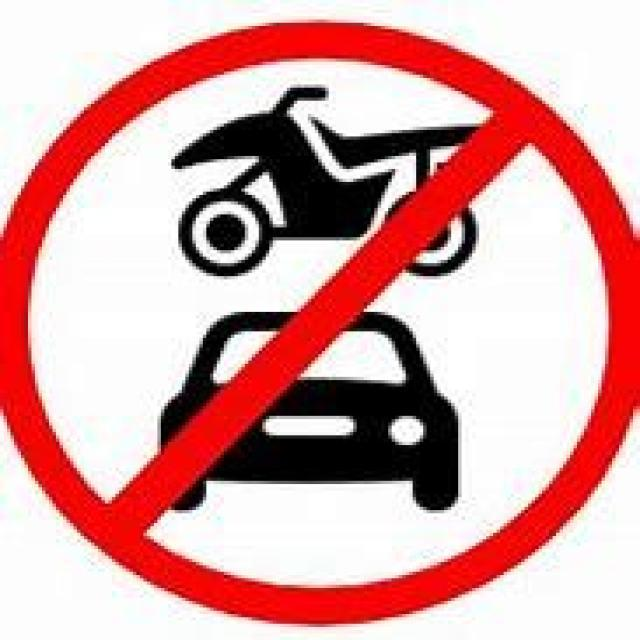all motor vehicle prohibited: (14, 9, 629, 625)
